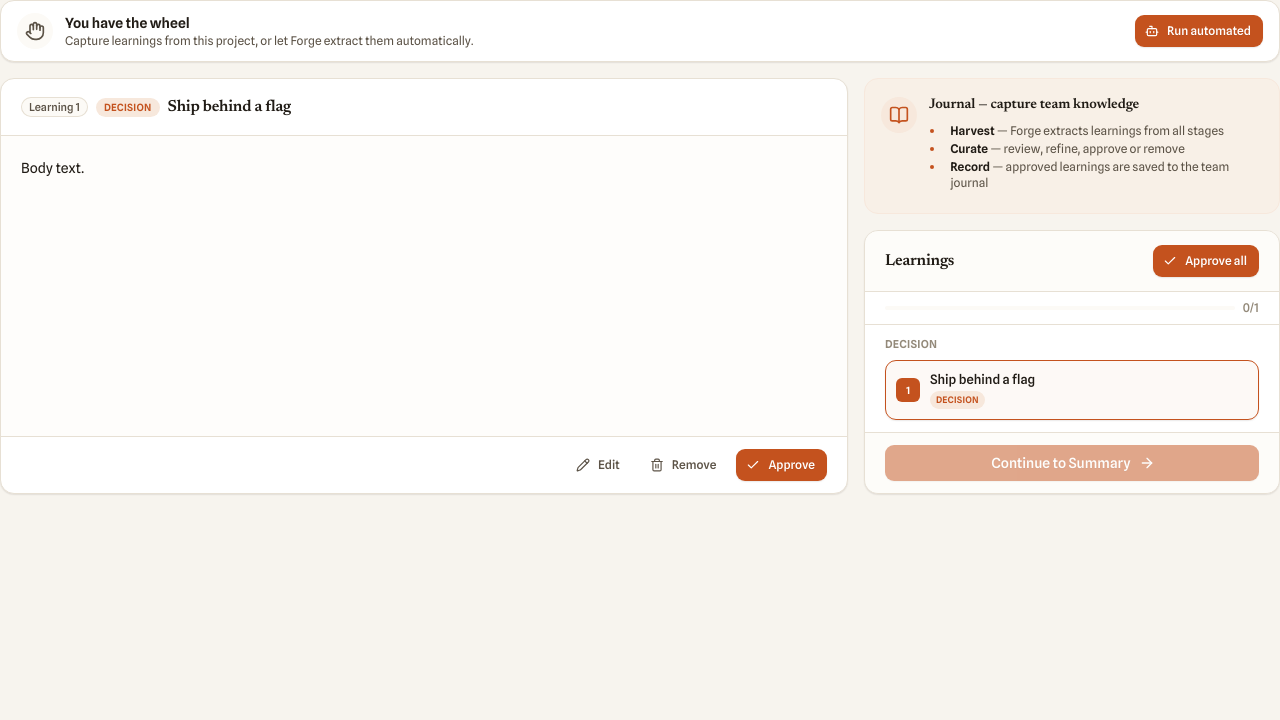
Test: JournalStageClient — removing a learning › Keep backs out without deleting
Click the button "Remove" at (684, 465), box 640,449 -> 728,481
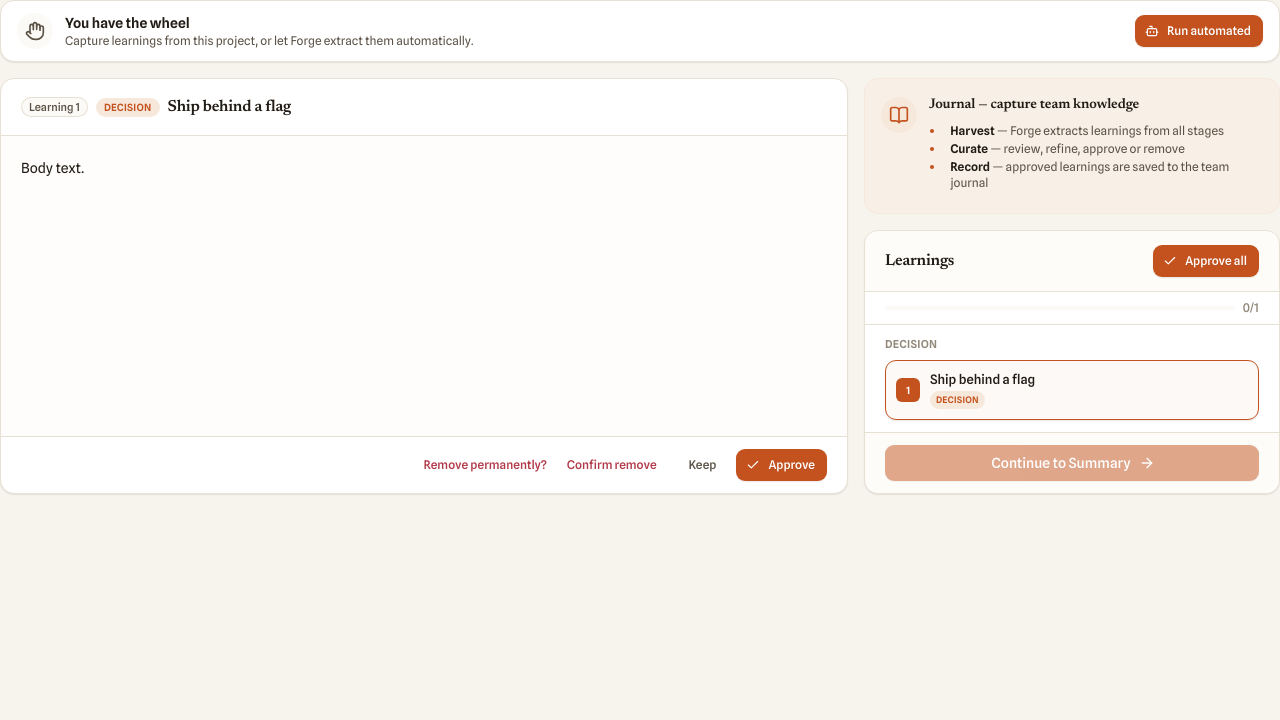
Click the button "Keep" at (702, 465), box 676,449 -> 728,481
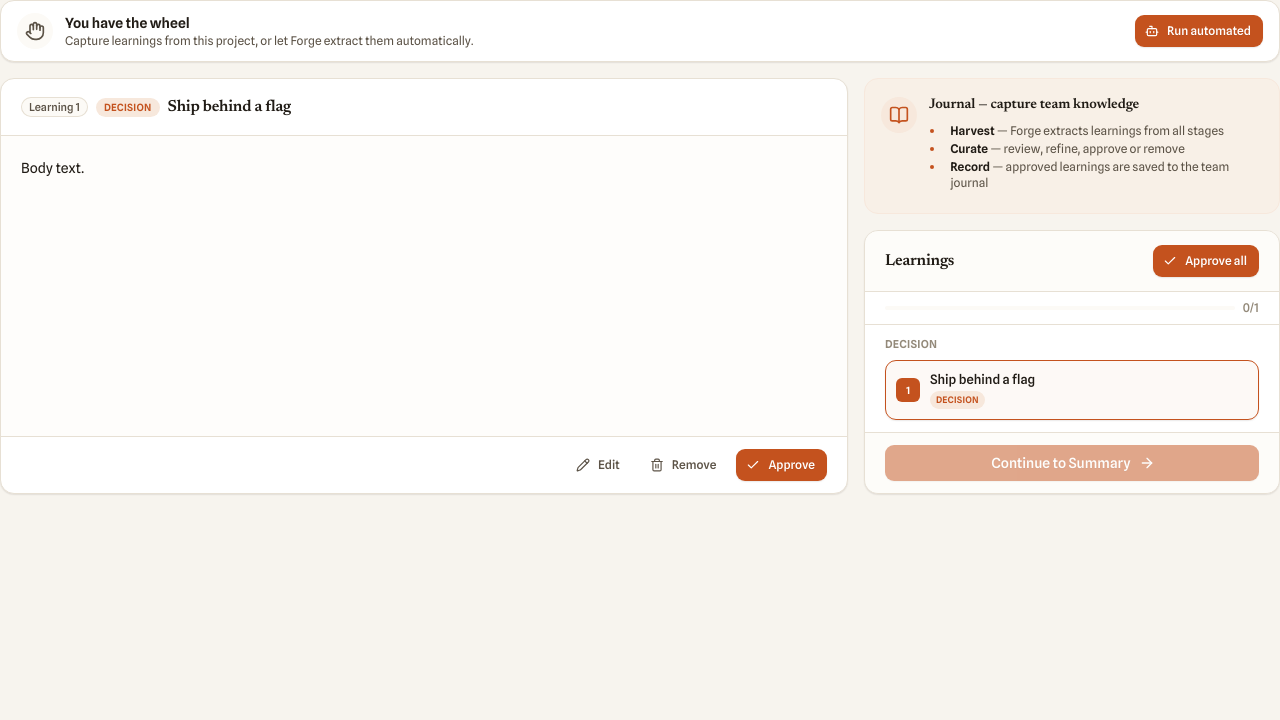
expect the text "Remove permanently?" is gone: met
